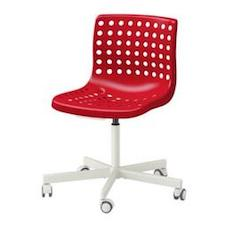chair: (33, 9, 202, 223)
